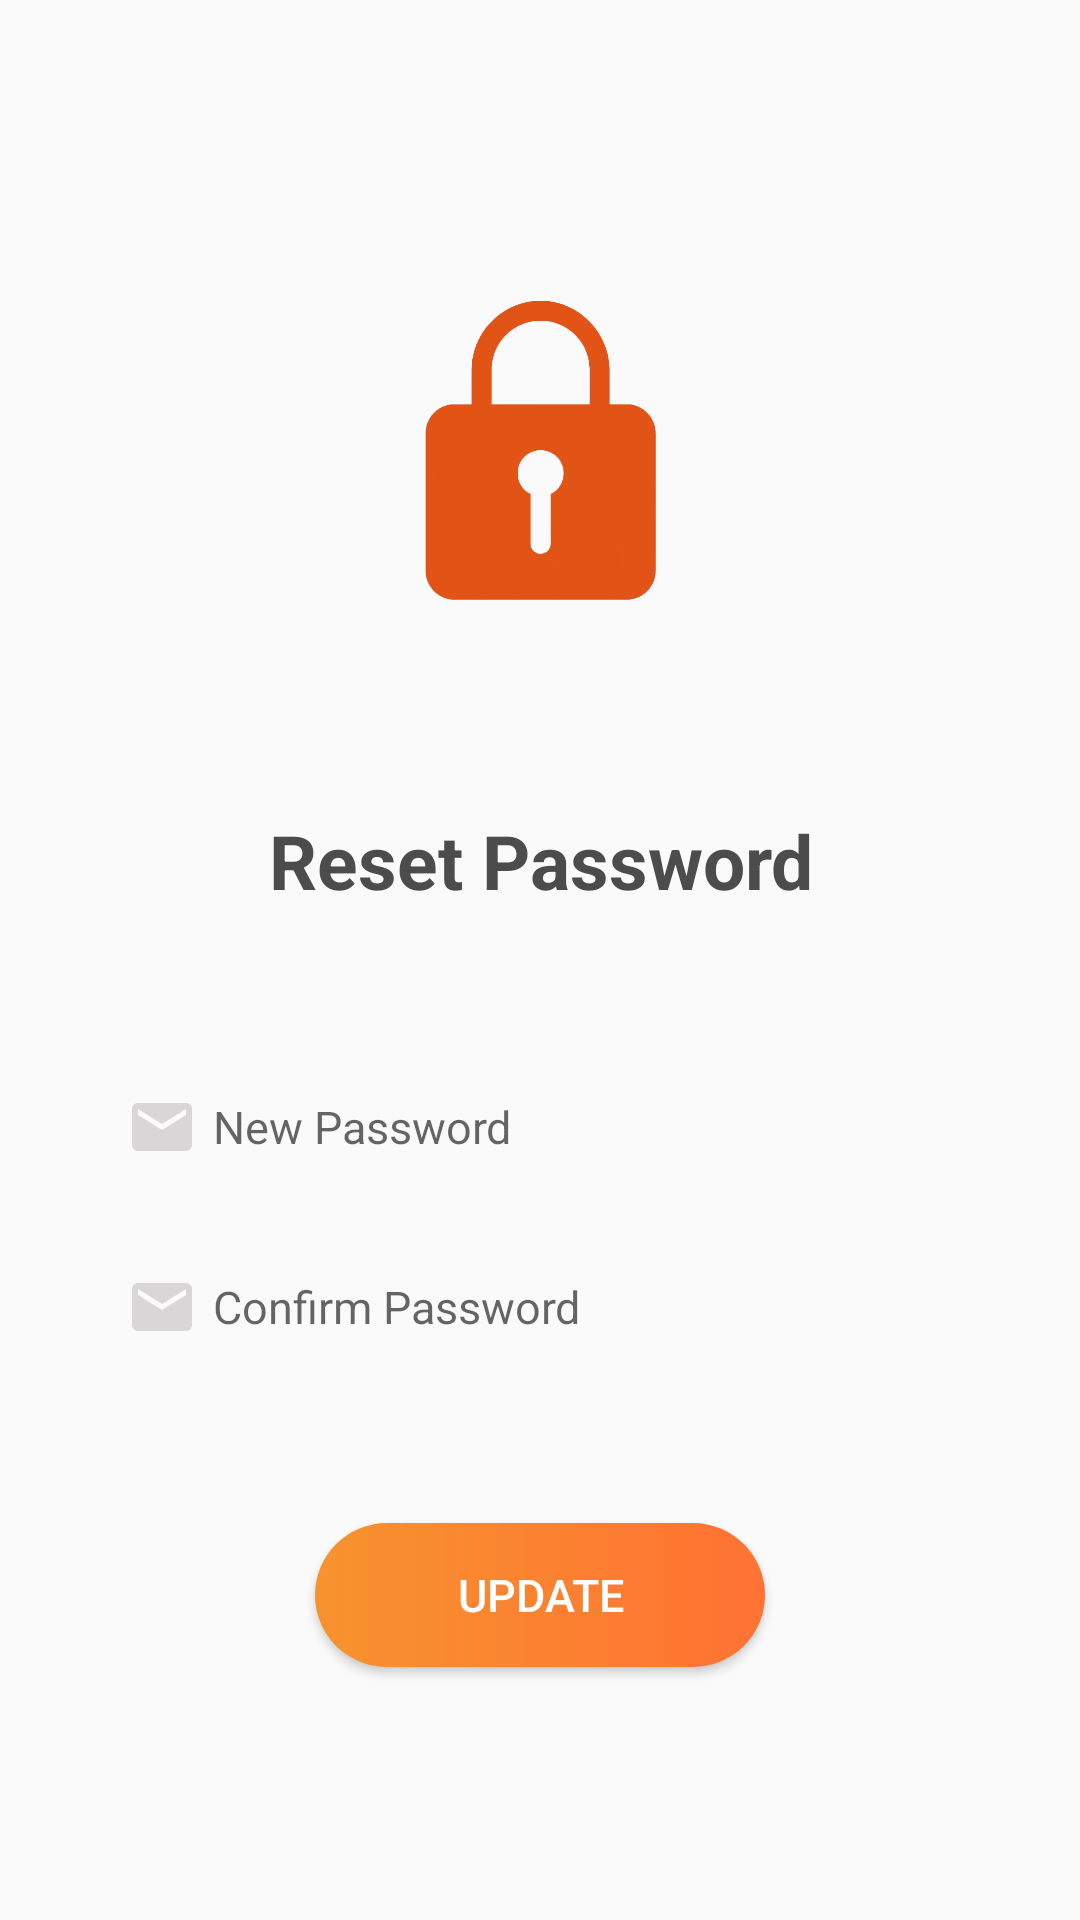

Named icons in this screenshot (1080*1920) and their centers, (x,y):
lock: (540,450)
